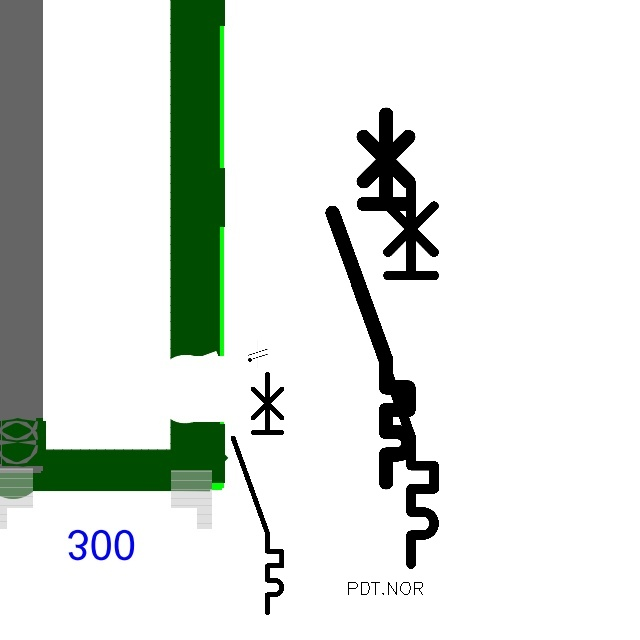interruptor_termomagnetico: (346, 173, 444, 574), (323, 105, 418, 492), (227, 368, 288, 619)
